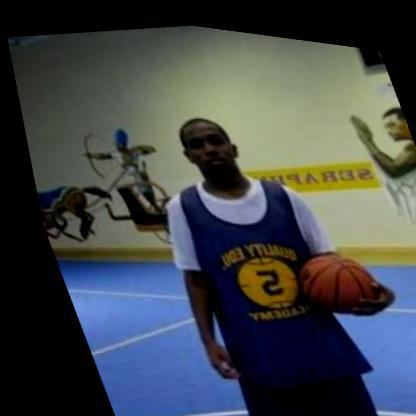basketball: (277, 231, 379, 315)
